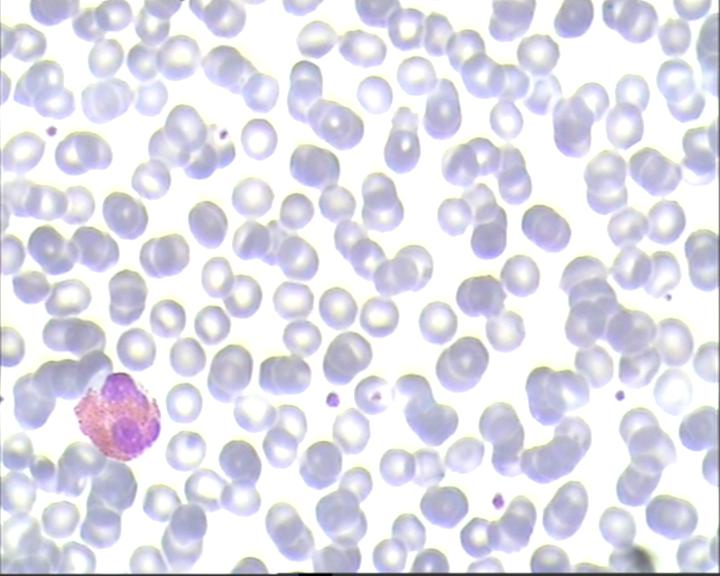eosi: (71, 367, 162, 459)
